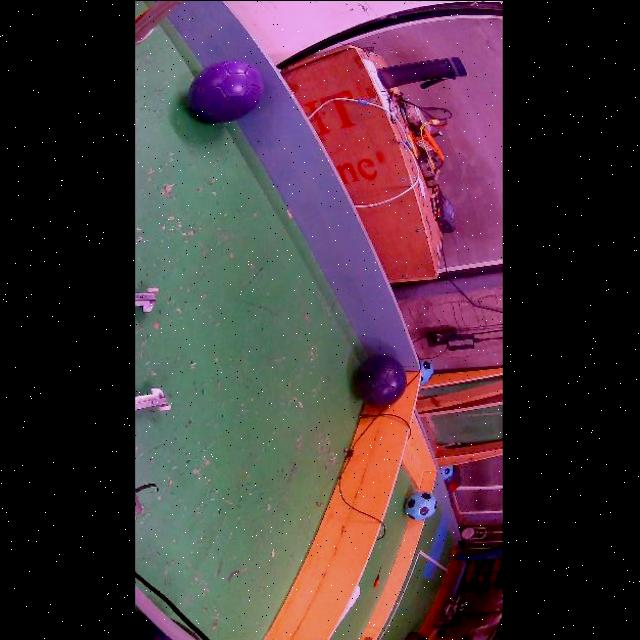B: (355, 355, 407, 407)
P: (188, 60, 262, 122)
